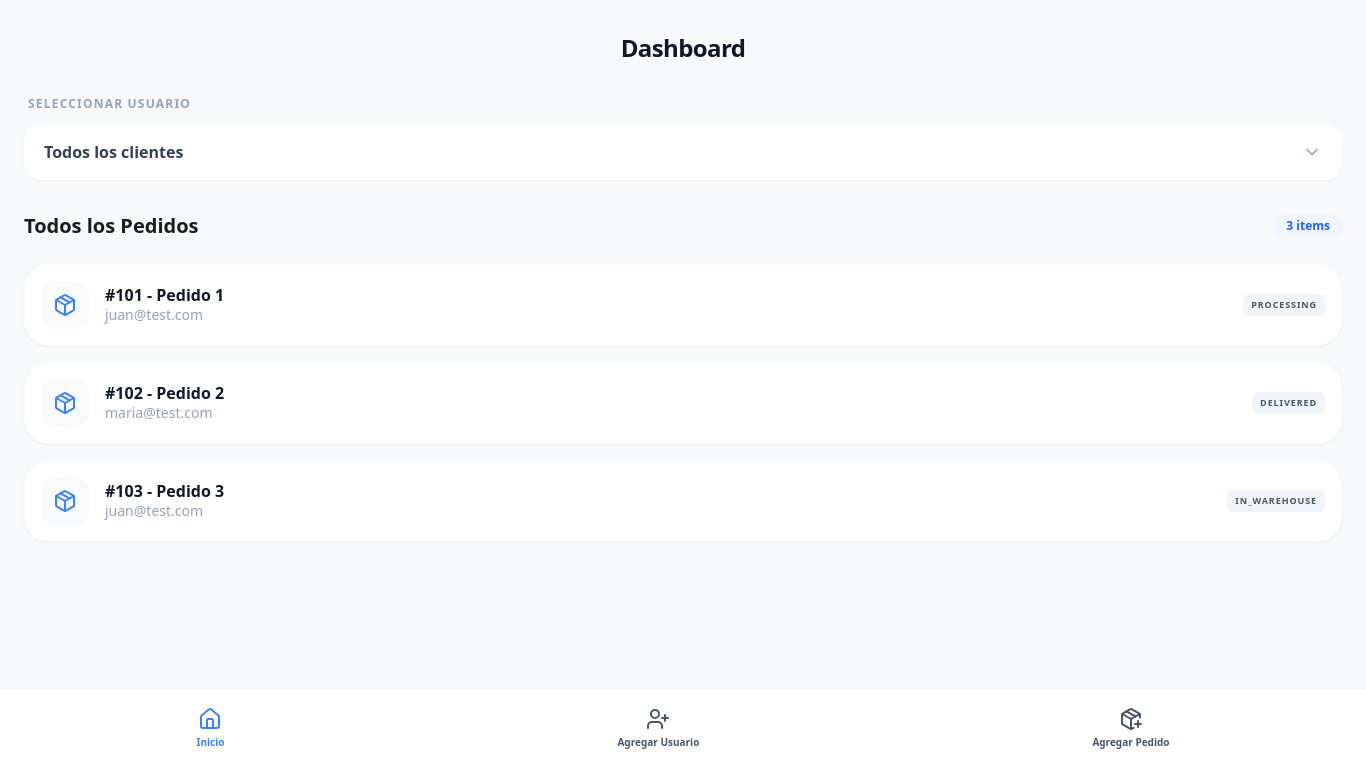
Test: Dashboard Component Integration › debería filtrar pedidos cuando se selecciona un usuario
This screenshot has width=1366, height=768.
Expected: the heading "Todos los Pedidos" is shown, [24,212,198,240]
Expected: the text "3 items" is shown, [1274,214,1342,238]
Seleccionar el usuario Juan (id: 1)
Select "Juan (juan@test.com)" in the dropdown showing "Todos los clientes": (683, 152) [24,124,1342,180]
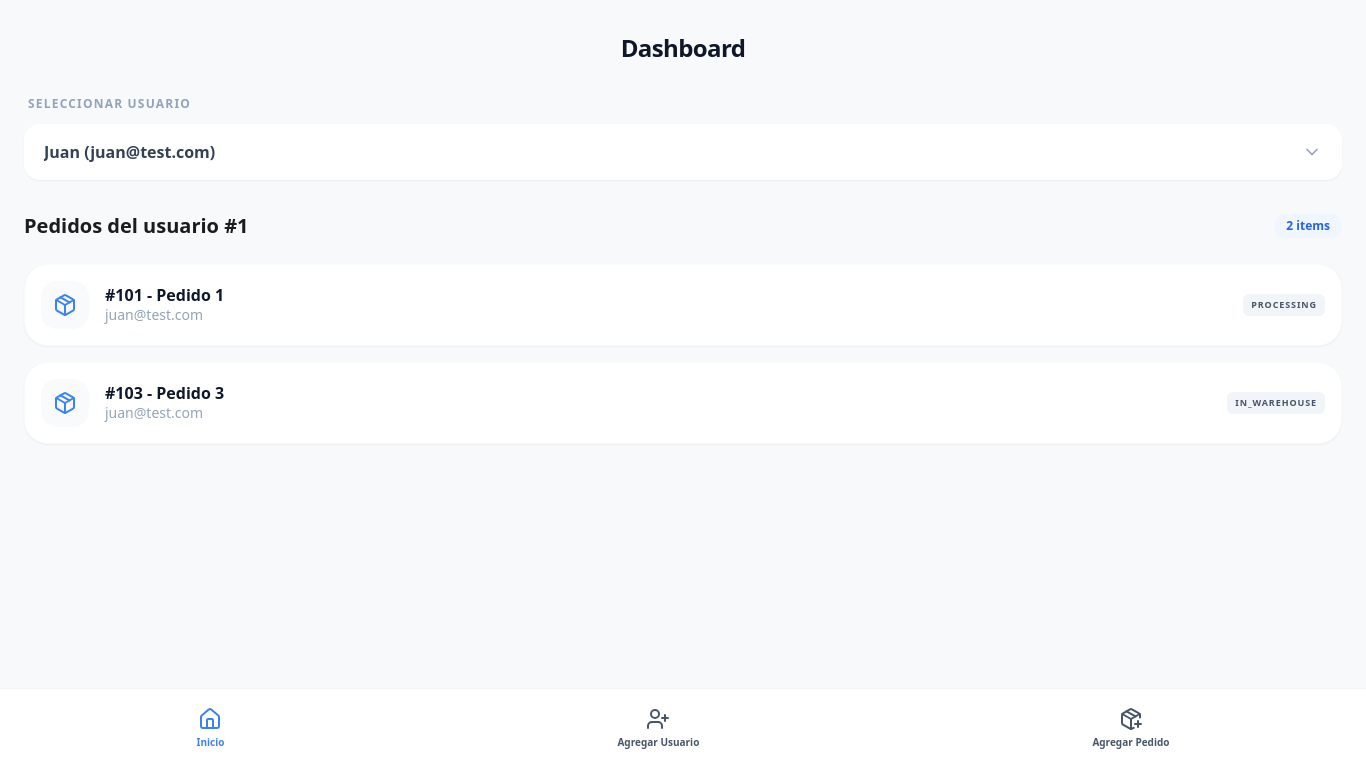
Now the heading "Pedidos del usuario #1" is shown, box [24,212,248,240]
Now the text "2 items" is shown, box [1274,214,1342,238]
Now the heading "Pedido 2" is gone
